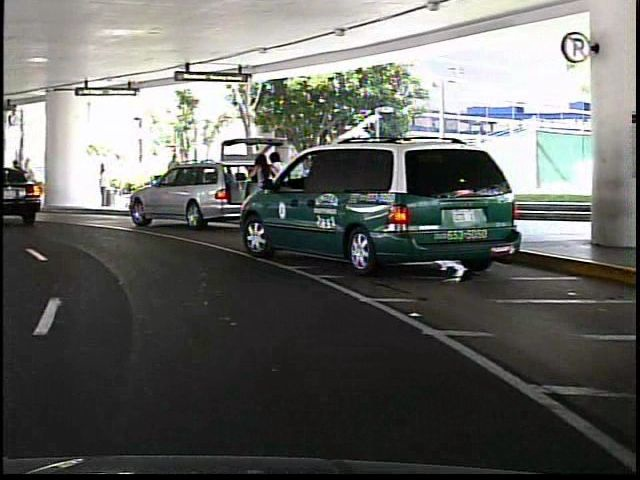person: (249, 149, 270, 227), (162, 148, 181, 204)
